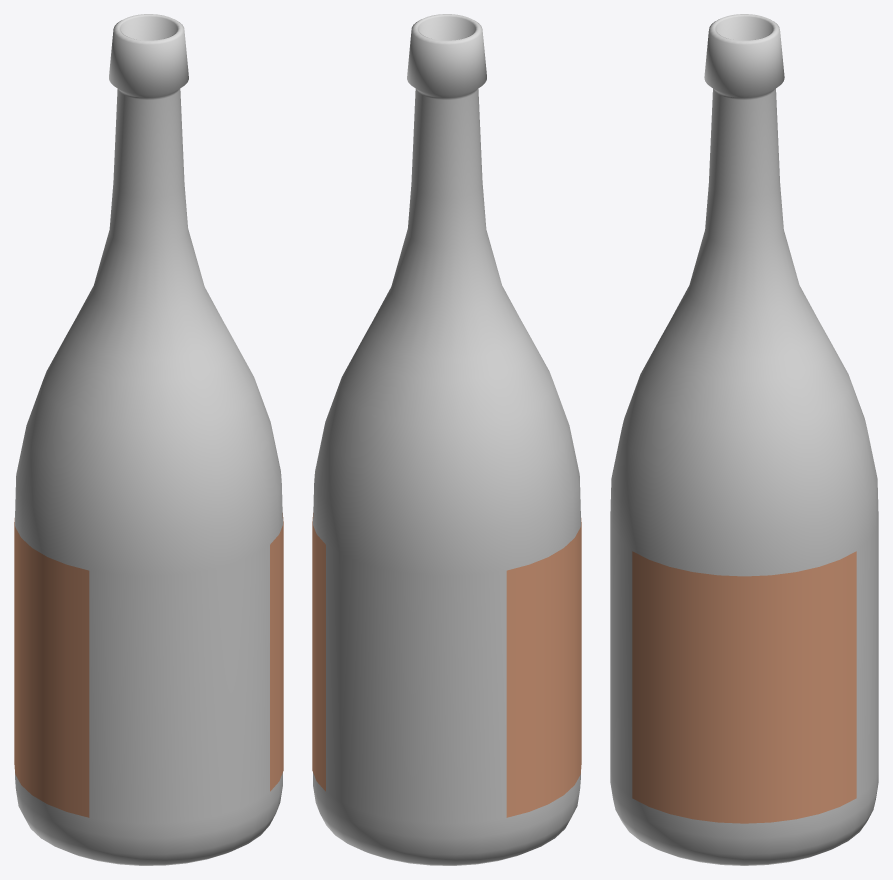
Rendered from ChampagneBottle_Full.fbx.
The picture shows the model from 3 angles, left to right: view 1: azimuth 30°, elevation 25°; view 2: azimuth 150°, elevation 25°; view 3: azimuth 270°, elevation 25°; orthographic projection.
Parts seen in each view (by area): view 1: ChampagneBottle_Full; view 2: ChampagneBottle_Full; view 3: ChampagneBottle_Full.
Part boxes in pixels (x1,y1,x2,y2): ChampagneBottle_Full: (14,14,283,865); ChampagneBottle_Full: (312,14,581,865); ChampagneBottle_Full: (610,14,878,865).
Bounding box in the file's own units: 9.36 × 30.22 × 9.31.
